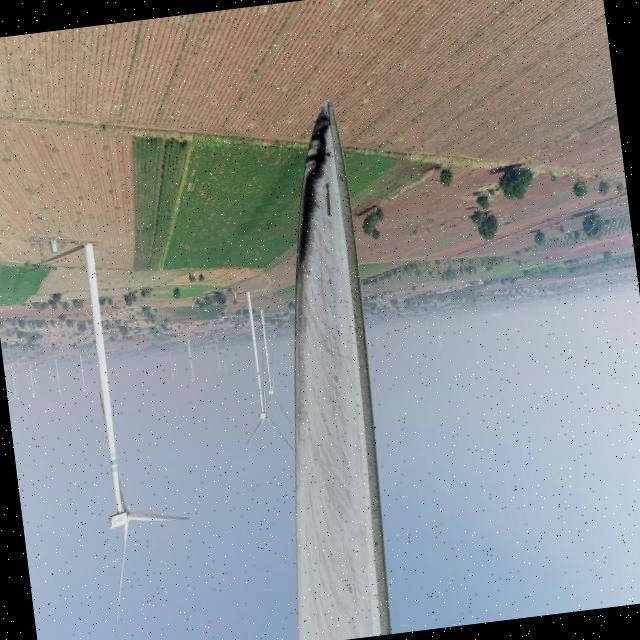Dirt: (292, 102, 392, 640)
Oil LEAKAGE: (296, 108, 334, 264)
Pin Hole: (330, 368, 347, 388), (370, 536, 385, 553), (346, 576, 356, 596), (326, 273, 338, 289), (321, 148, 332, 162)
